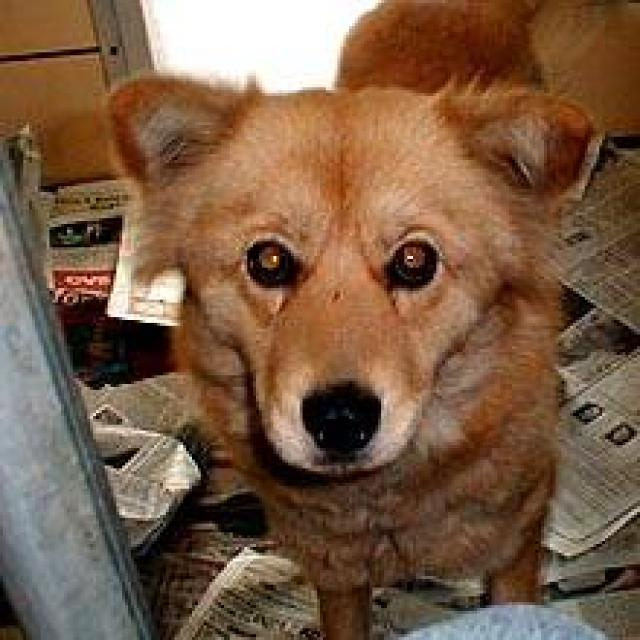relax: (85, 22, 562, 544)
